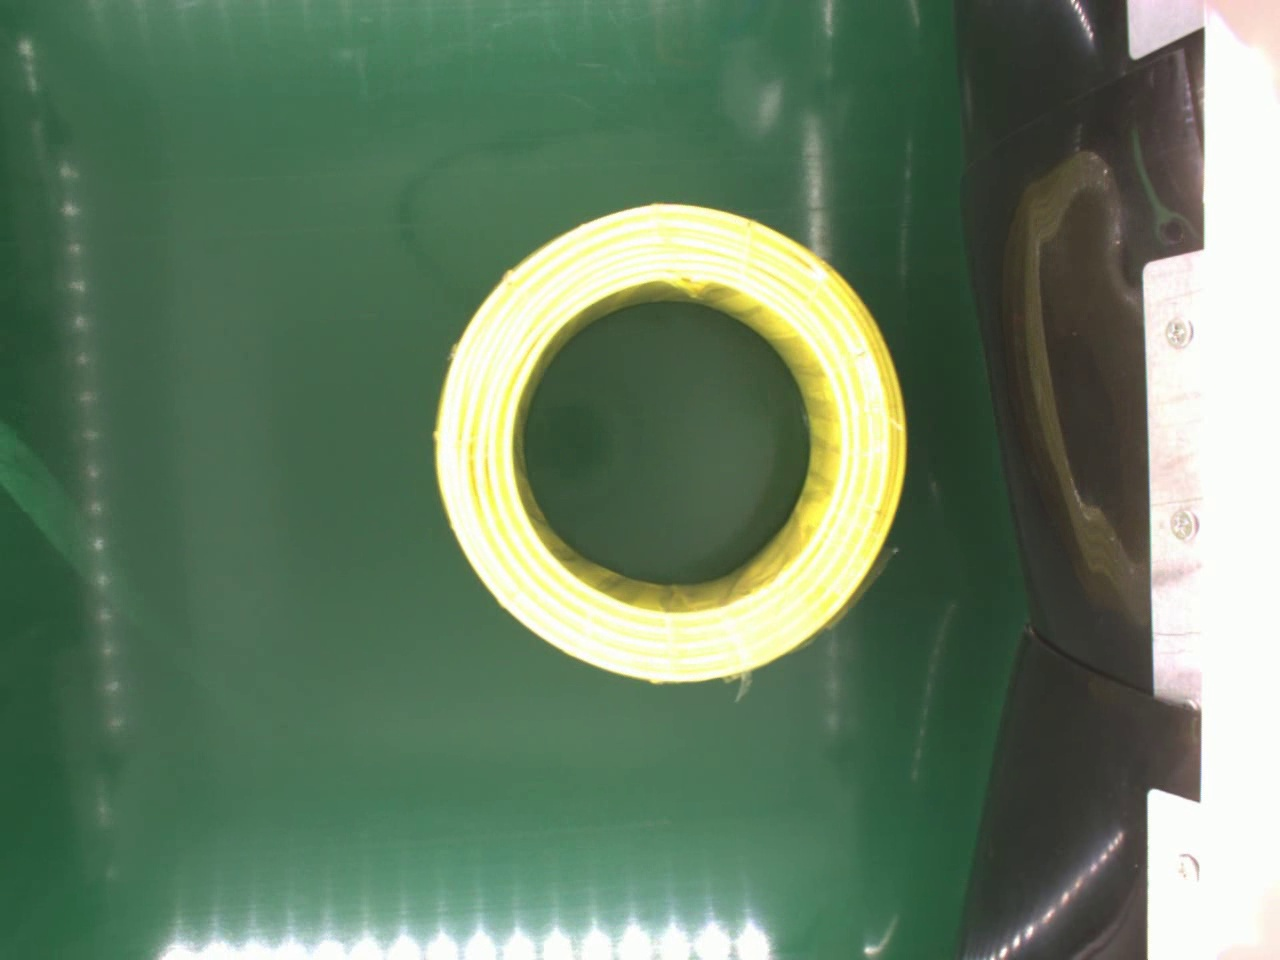yellow: (423, 189, 921, 693)
